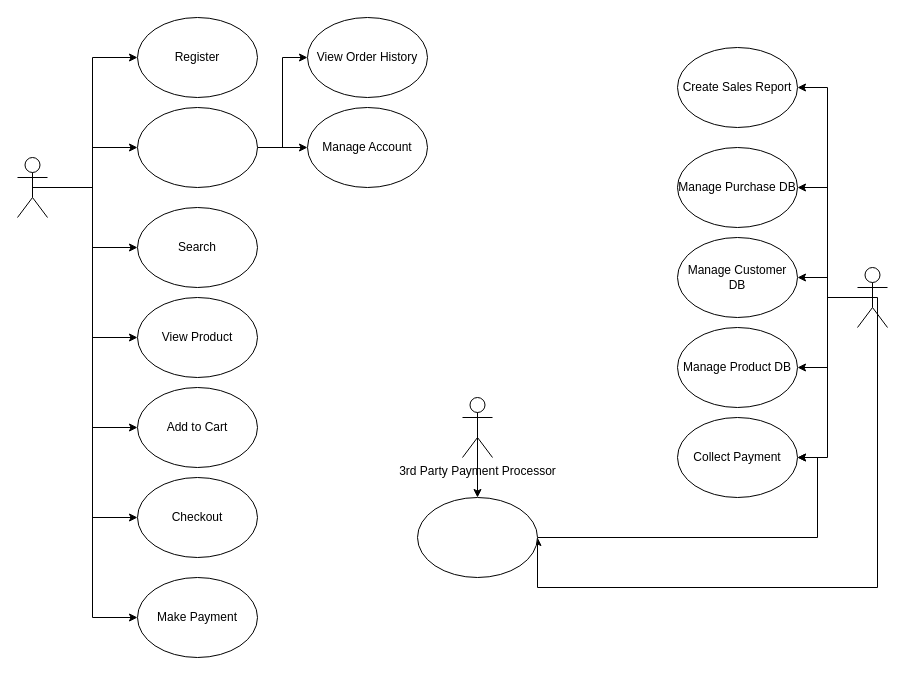
Image size: 909x675. Some labels were removed from this diagram. The centre of each missing label's shape, as x and y in pixels:
"Buyer" belongs at [32,187].
"Login" belongs at [197,147].
"Vendor" belongs at [872,297].
"Verify Payment" belongs at [477,537].
